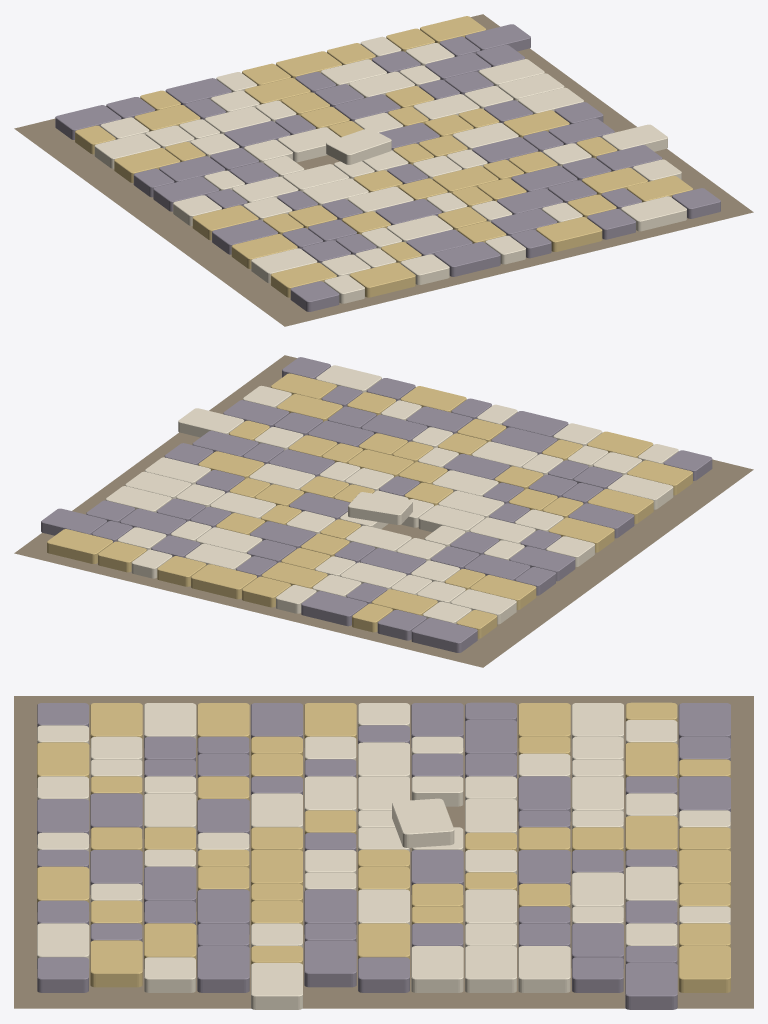
The model's file is terilgan.glb.
The picture shows the model from 3 angles, top to bottom: view 1: azimuth 30°, elevation 25°; view 2: azimuth 150°, elevation 25°; view 3: azimuth 270°, elevation 25°; orthographic projection. The views are drawn at different scales.
Parts seen in each view (by area): view 1: qum, t.082, t.004, t.007, t.009, t.002, t.093, t.011, t.078, t.033, t.111, t.133 (+95 smaller); view 2: qum, t.134, t.082, t.137, t.140, t.144, t.055, t.070, t.056, t.111, t.044, t.022 (+94 smaller); view 3: qum, t.082, t.021, t.066, t.144, t.043, t.088, t.110, t.133, t.055, t.099, t.026 (+133 smaller).
Boxes of the visible parts, left/top/right/bottom form: qum: left=14, top=14, right=753, bottom=326; t.082: left=326, top=128, right=391, bottom=164; t.004: left=434, top=242, right=500, bottom=276; t.007: left=536, top=217, right=602, bottom=251; t.009: left=621, top=196, right=686, bottom=231; t.002: left=349, top=262, right=415, bottom=297; t.093: left=278, top=127, right=340, bottom=162; t.011: left=270, top=262, right=336, bottom=297; t.078: left=153, top=176, right=219, bottom=211; t.033: left=231, top=234, right=297, bottom=268; t.111: left=94, top=133, right=160, bottom=168; t.133: left=465, top=24, right=530, bottom=51; qum: left=14, top=355, right=753, bottom=667; t.134: left=411, top=618, right=477, bottom=652; t.082: left=348, top=492, right=412, bottom=524; t.137: left=301, top=591, right=367, bottom=626; t.140: left=191, top=564, right=256, bottom=599; t.144: left=47, top=529, right=112, bottom=563; t.055: left=178, top=408, right=244, bottom=437; t.070: left=418, top=505, right=484, bottom=532; t.056: left=548, top=517, right=614, bottom=552; t.111: left=450, top=589, right=516, bottom=624; t.044: left=568, top=503, right=634, bottom=538; t.022: left=607, top=474, right=673, bottom=509; qum: left=14, top=696, right=753, bottom=1008; t.082: left=392, top=798, right=454, bottom=847; t.021: left=90, top=940, right=142, bottom=987; t.066: left=304, top=940, right=356, bottom=987; t.144: left=678, top=946, right=730, bottom=992; t.043: left=197, top=946, right=249, bottom=992; t.088: left=411, top=946, right=463, bottom=992; t.110: left=518, top=946, right=570, bottom=992; t.133: left=625, top=963, right=677, bottom=1009; t.055: left=251, top=963, right=302, bottom=1009; t.099: left=465, top=946, right=516, bottom=992; t.026: left=144, top=793, right=196, bottom=838.
Bounding box in the file's own units: 1.67 × 0.072 × 1.66.
